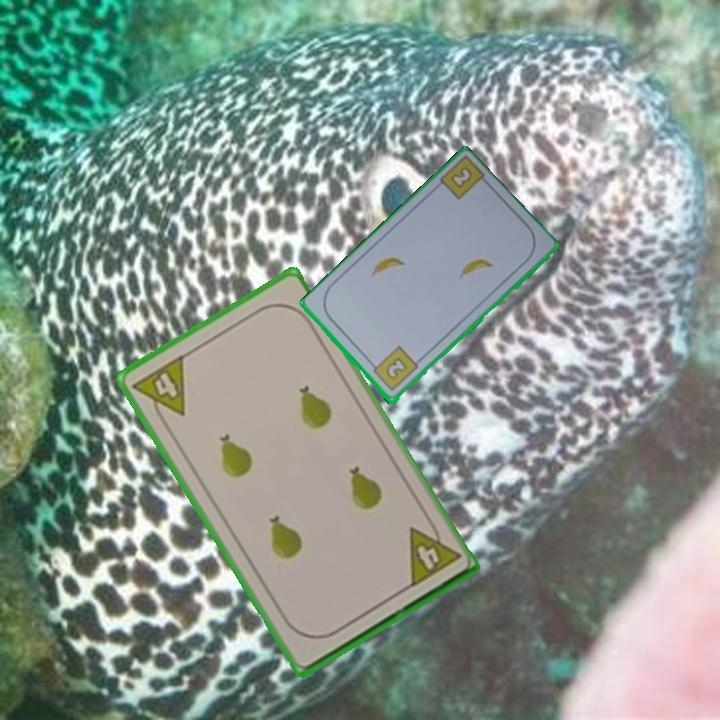2b: (367, 343, 421, 394), (449, 166, 473, 189)
4p: (128, 351, 188, 429), (404, 514, 463, 591)
